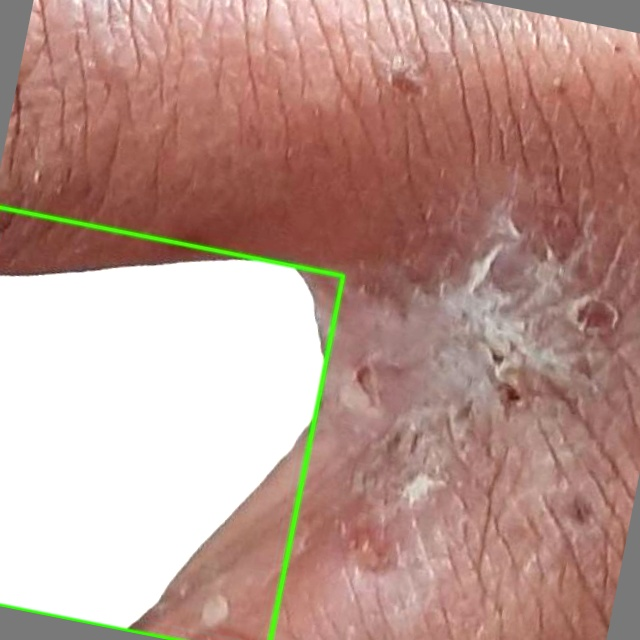Scabies: (0, 207, 343, 639)
